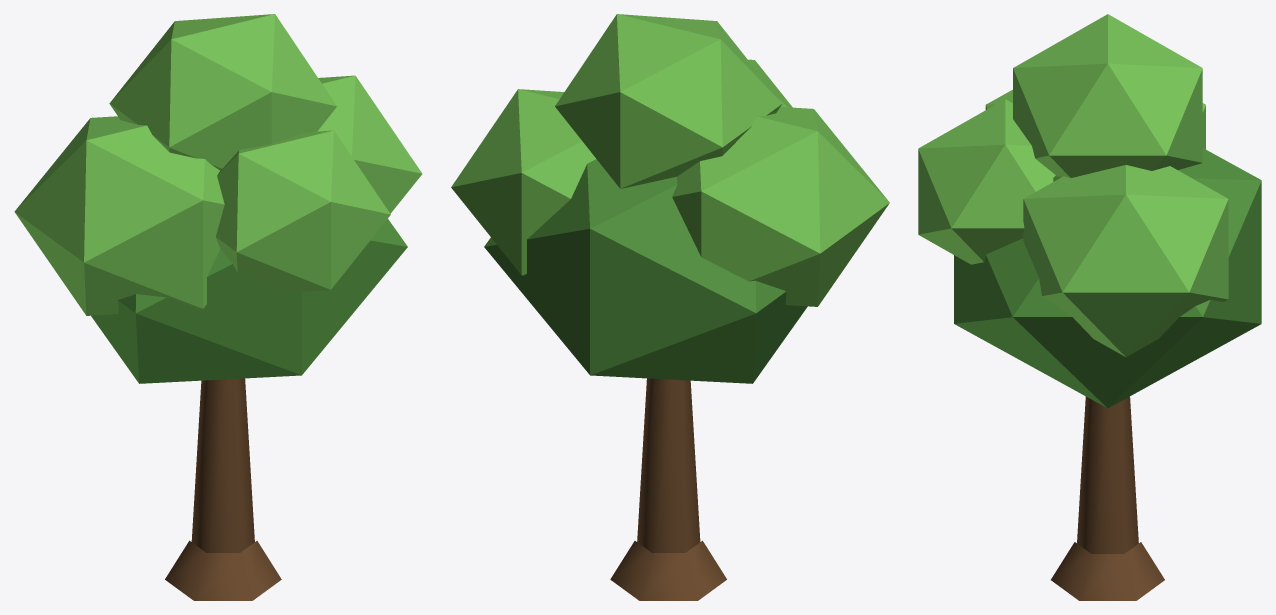
Rendered from tree.glb.
The picture shows the model from 3 angles, left to right: view 1: azimuth 30°, elevation 25°; view 2: azimuth 150°, elevation 25°; view 3: azimuth 270°, elevation 25°; orthographic projection. The views are drawn at different scales.
Visible parts, largest first — view 1: Tree; view 2: Tree; view 3: Tree.
Part boxes in pixels (box(x1,y1,x2,y2)): Tree: box(14, 14, 422, 600); Tree: box(451, 14, 889, 600); Tree: box(918, 14, 1261, 600).
Bounding box in the file's own units: 0.668 × 0.9904 × 0.5698.
